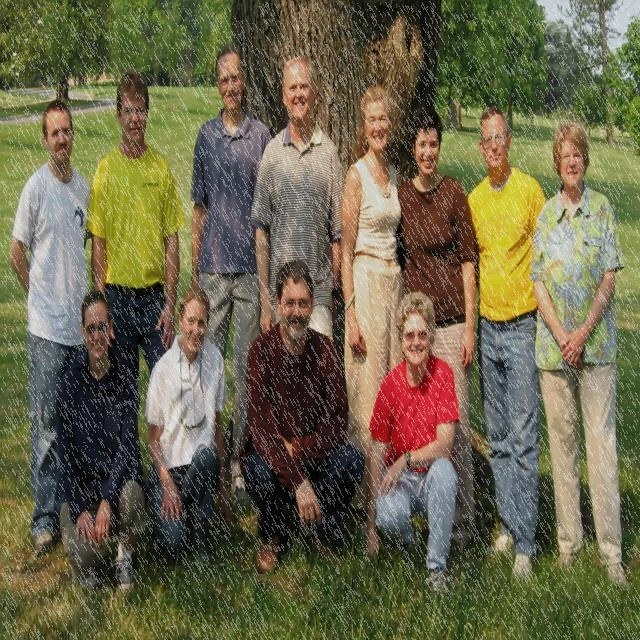pessoa: (527, 119, 633, 602), (238, 254, 367, 592), (184, 41, 278, 502), (464, 105, 548, 586), (8, 97, 92, 558), (394, 102, 478, 550), (85, 66, 187, 384), (364, 286, 461, 606), (142, 280, 246, 562), (249, 52, 347, 346), (339, 84, 406, 509), (56, 290, 144, 592)
